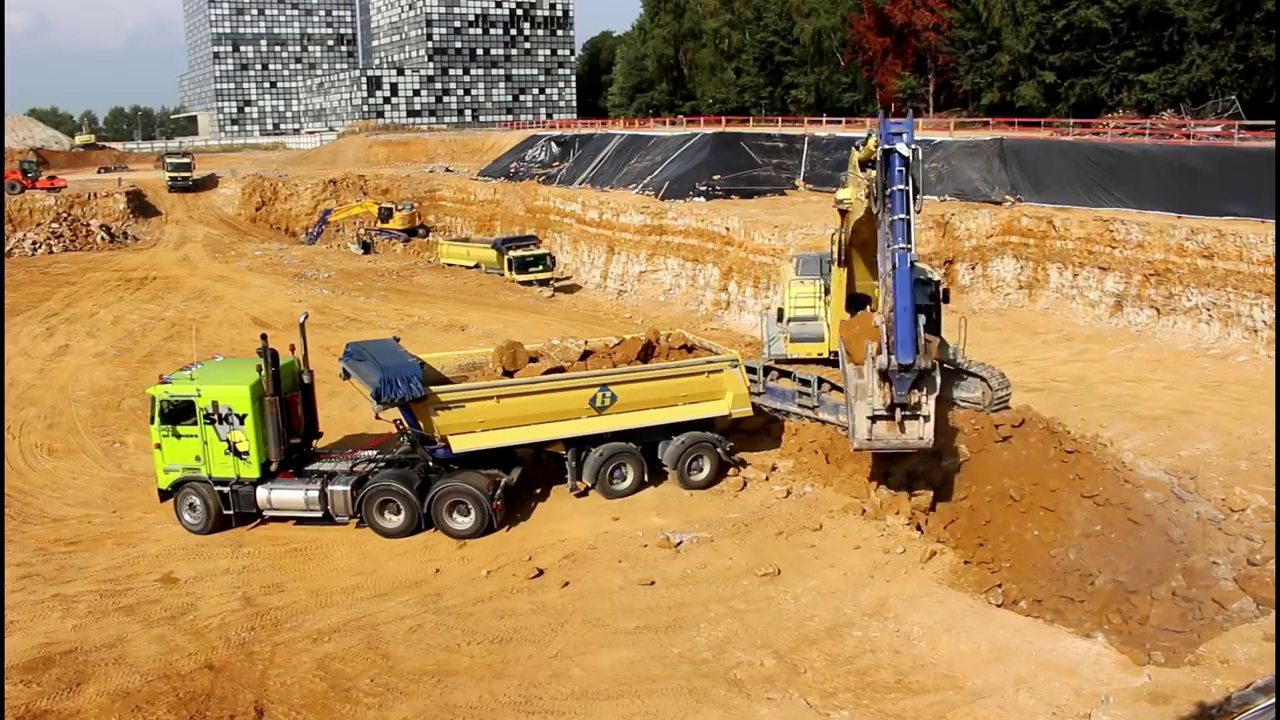compactor: (4, 159, 70, 196)
excavator: (715, 100, 1018, 461), (295, 196, 435, 264), (68, 113, 108, 159)
truck: (140, 307, 763, 547), (429, 228, 560, 312), (156, 147, 202, 198)
